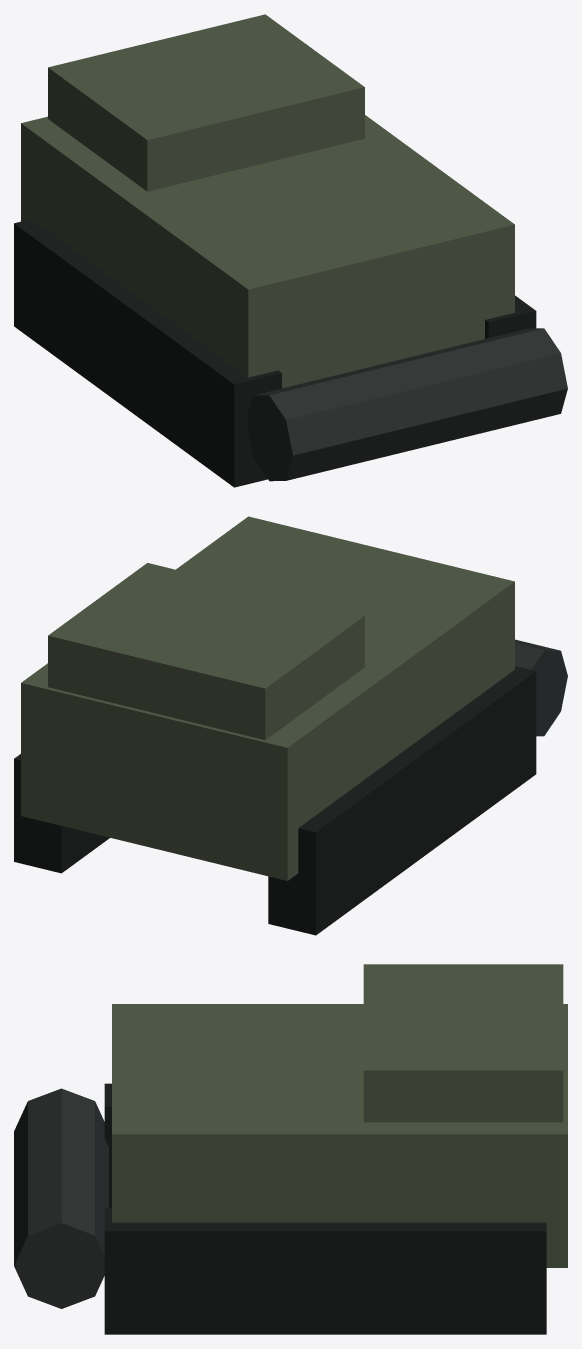
File: Bastion_Harvester_LOD1.obj
3 renders of one model, top to bottom at view 1: azimuth 30°, elevation 25°; view 2: azimuth 150°, elevation 25°; view 3: azimuth 270°, elevation 25°, orthographic.
Parts seen in each view (by area): view 1: Bastion_Harvester_LOD1; view 2: Bastion_Harvester_LOD1; view 3: Bastion_Harvester_LOD1.
Part boxes in pixels (x1,y1,x2,y2): Bastion_Harvester_LOD1: (14,14,567,487); Bastion_Harvester_LOD1: (14,516,567,935); Bastion_Harvester_LOD1: (14,964,567,1334).
Size of the model in its own units: 3.68 by 2.83 by 5.83.
1 material, 1 textured.
